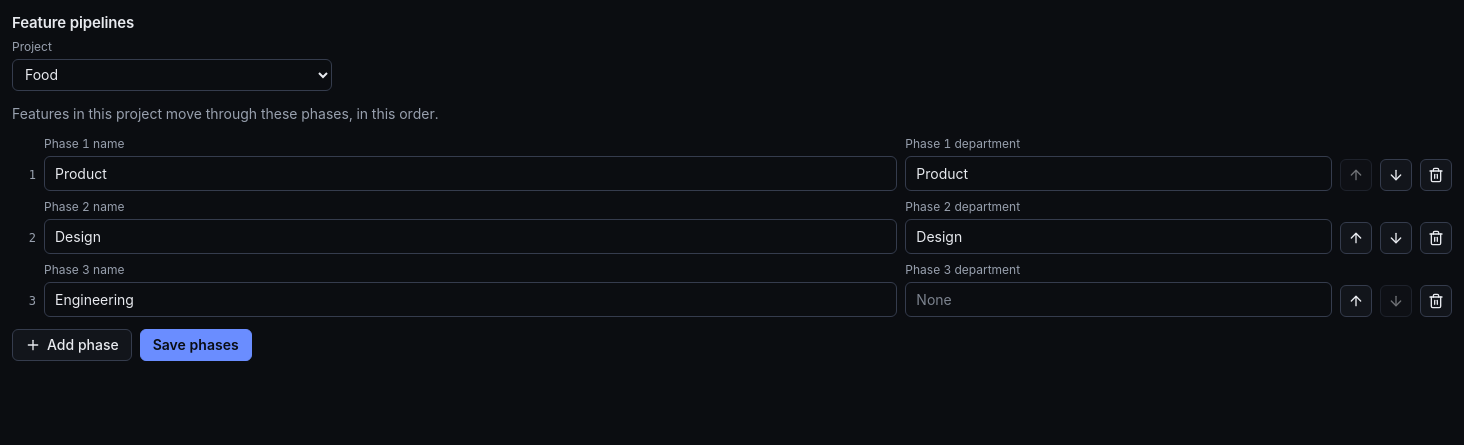
Test: PipelineSettings › saves a rename with the old name, a reorder, an added phase and a removal
Replace the text in the field labelled "Phase 1 name" with "Discovery" at (471, 173), box 44,156 -> 897,190
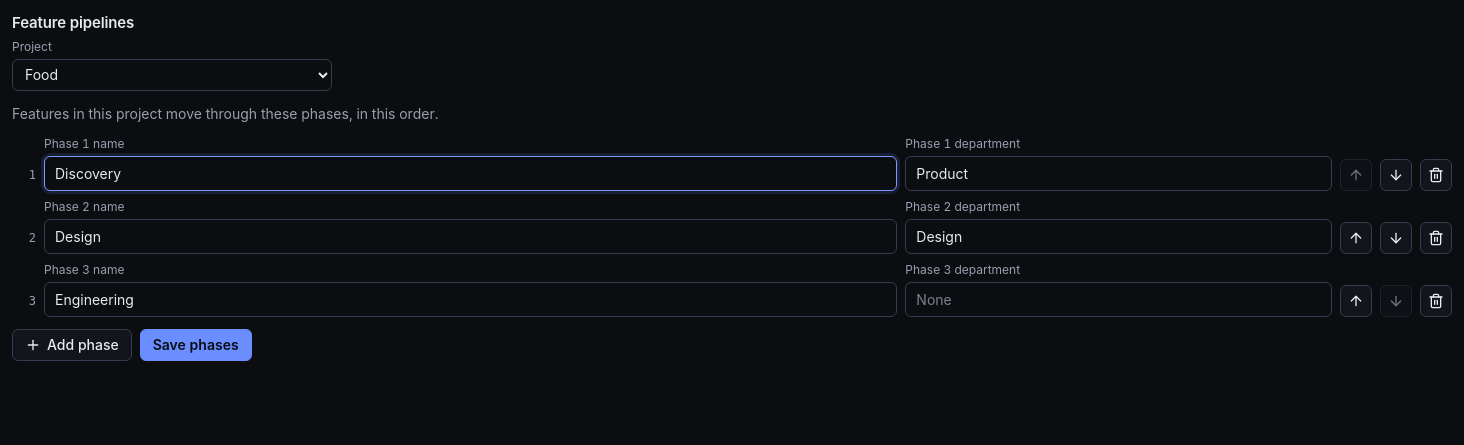
Click the button named "Move Design down".
click(1396, 238)  # box 1380,222 -> 1412,254
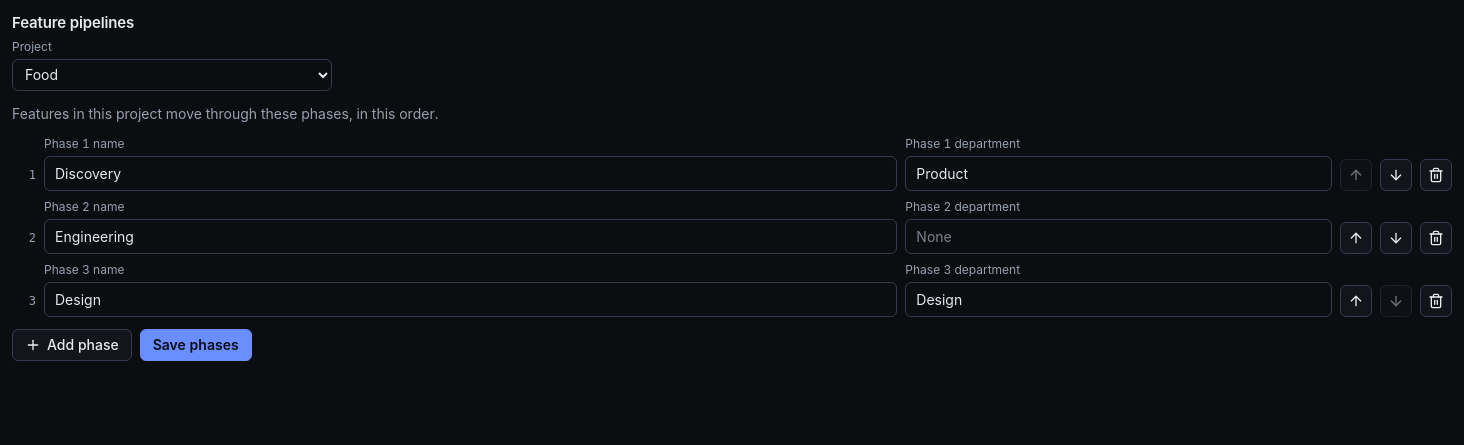
Click the button "Add phase".
click(72, 344)  # box 12,328 -> 132,360
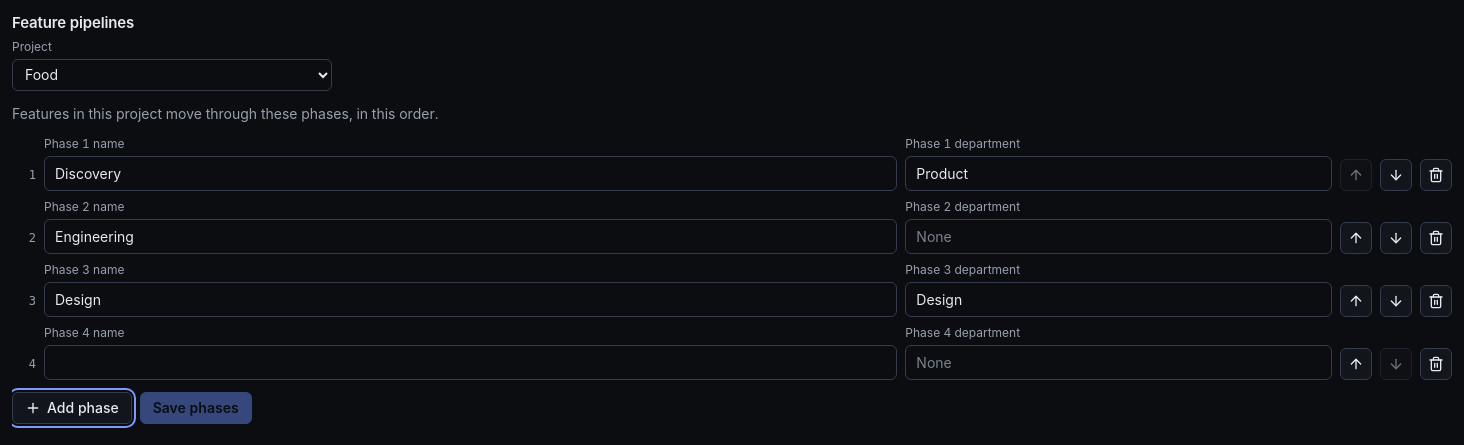
Type "QA" into the field labelled "Phase 4 name".
click(471, 362); type("QA")  # box 44,344 -> 897,380
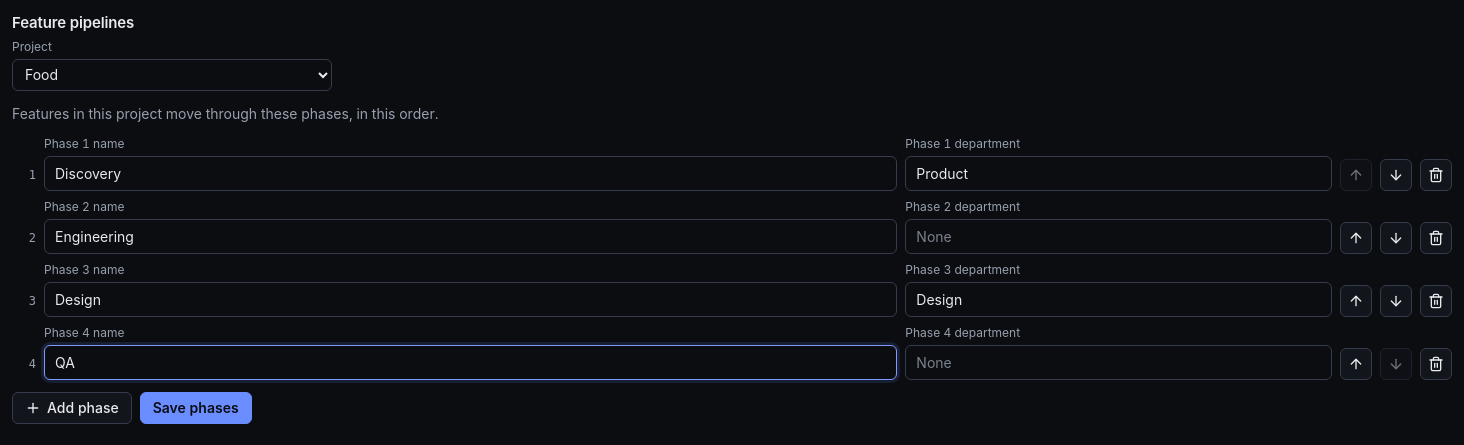
Click the button named "Remove Design".
click(1436, 300)  # box 1420,284 -> 1452,316
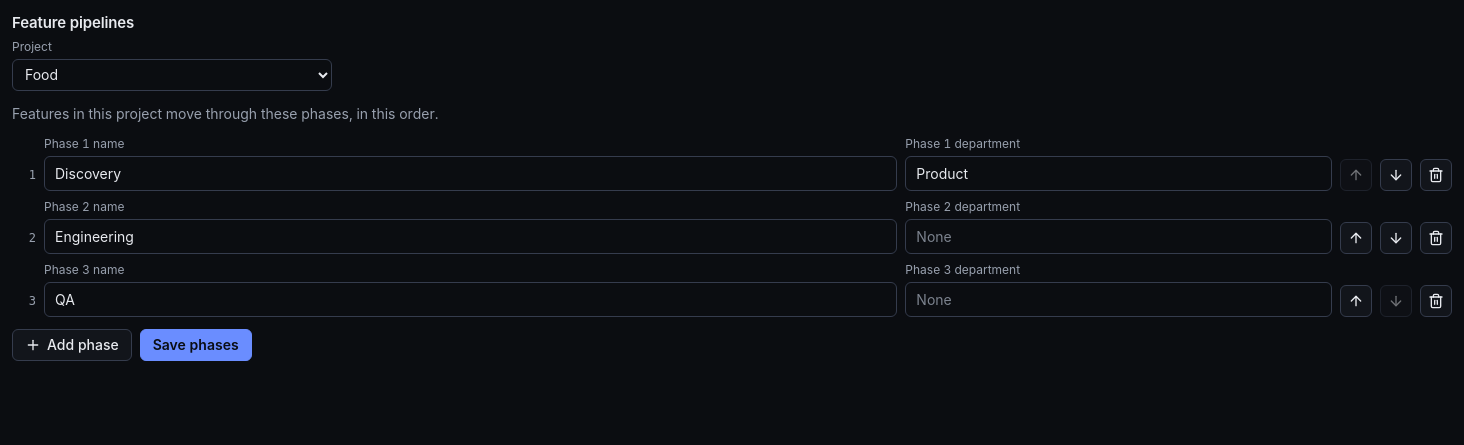
Click the button "Save phases".
click(196, 344)  # box 140,328 -> 252,360
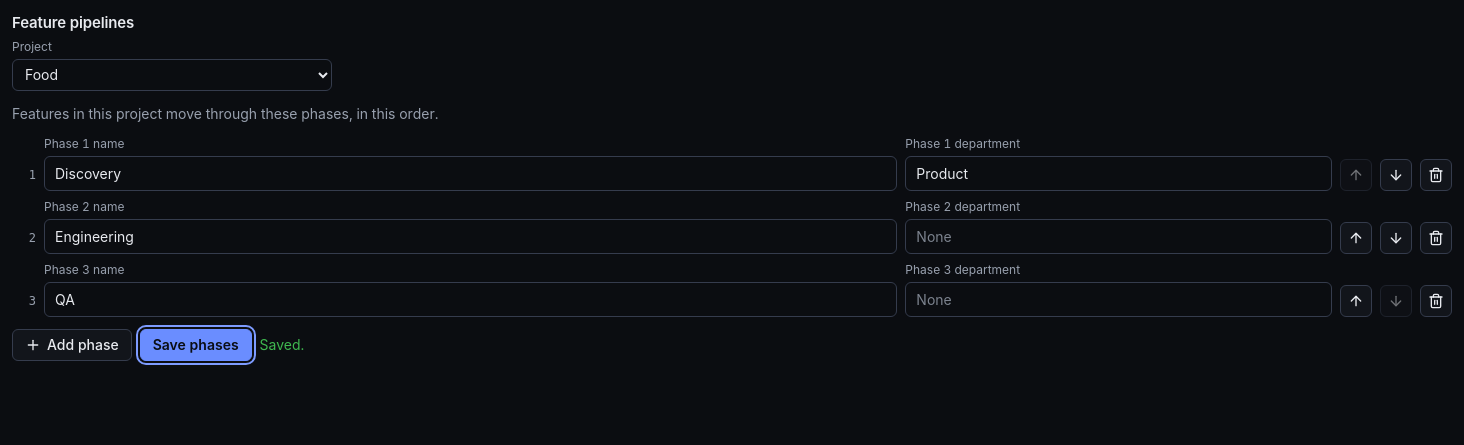
Check: the text "Saved." is shown, box 260,334 -> 304,355
